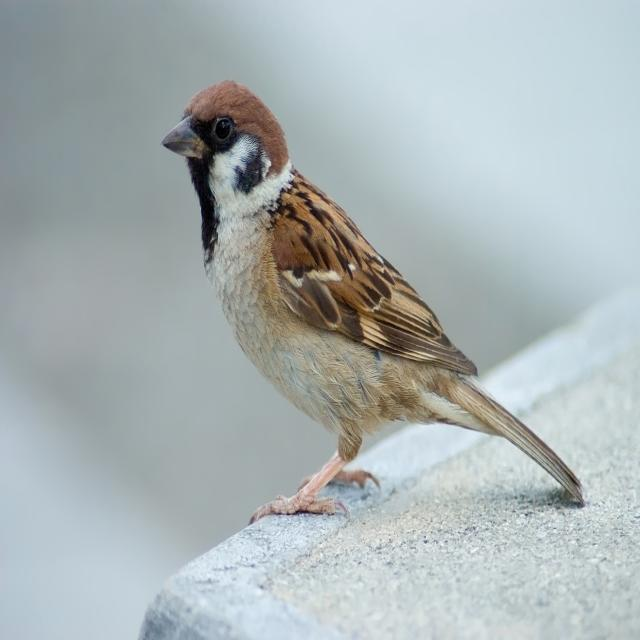bird: (164, 82, 596, 539)
